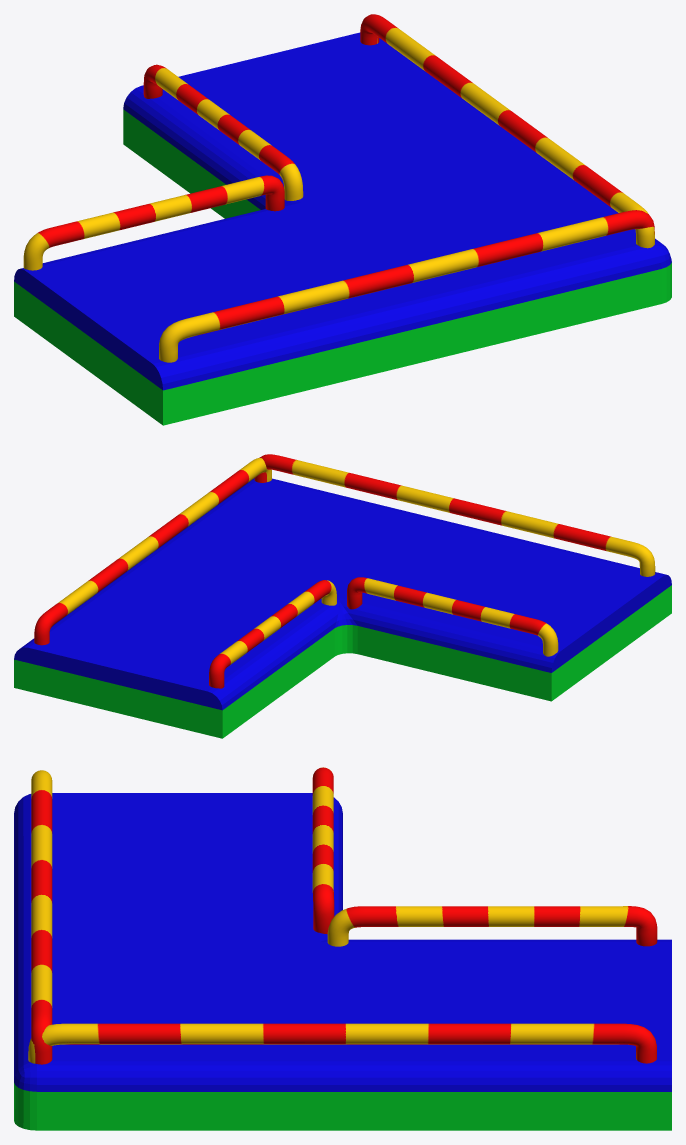
3 renders of one model, top to bottom at view 1: azimuth 30°, elevation 25°; view 2: azimuth 150°, elevation 25°; view 3: azimuth 270°, elevation 25°, orthographic. The views are drawn at different scales.
Parts seen in each view (by area): view 1: plank3, pipe5, pipe7, pipe6, pipe8; view 2: plank3, pipe5, pipe7, pipe6, pipe8; view 3: plank3, pipe7, pipe8, pipe5, pipe6.
Boxes of the visible parts, <box> form: plank3: <box>14,32,671,425</box>; pipe5: <box>159,210,654,362</box>; pipe7: <box>360,14,654,248</box>; pipe6: <box>23,175,284,270</box>; pipe8: <box>143,64,303,200</box>; plank3: <box>14,478,671,738</box>; pipe5: <box>254,454,655,576</box>; pipe7: <box>34,458,271,645</box>; pipe6: <box>347,577,558,656</box>; pipe8: <box>209,580,336,688</box>; plank3: <box>14,793,671,1130</box>; pipe7: <box>28,1023,656,1063</box>; pipe8: <box>327,906,657,946</box>; pipe5: <box>31,770,52,1064</box>; pipe6: <box>312,767,334,934</box>.
Size of the model in its own units: 1000 by 163 by 1000.
